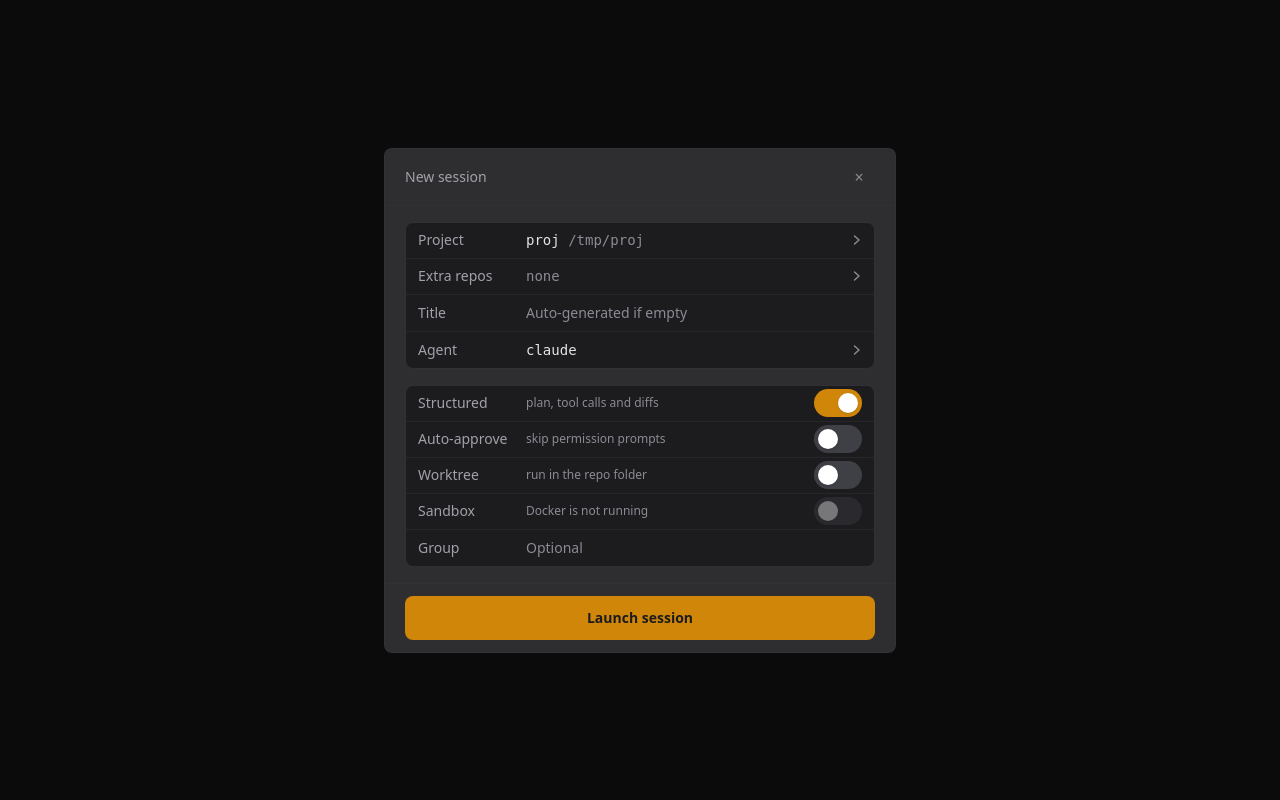
SessionWizard hooks trust › shows the error instead of looping when a trusted retry is refused again
The width and height of the screenshot is (1280, 800).
Click the button "Launch session" at {"x": 640, "y": 618}, box left=405, top=596, right=875, bottom=640
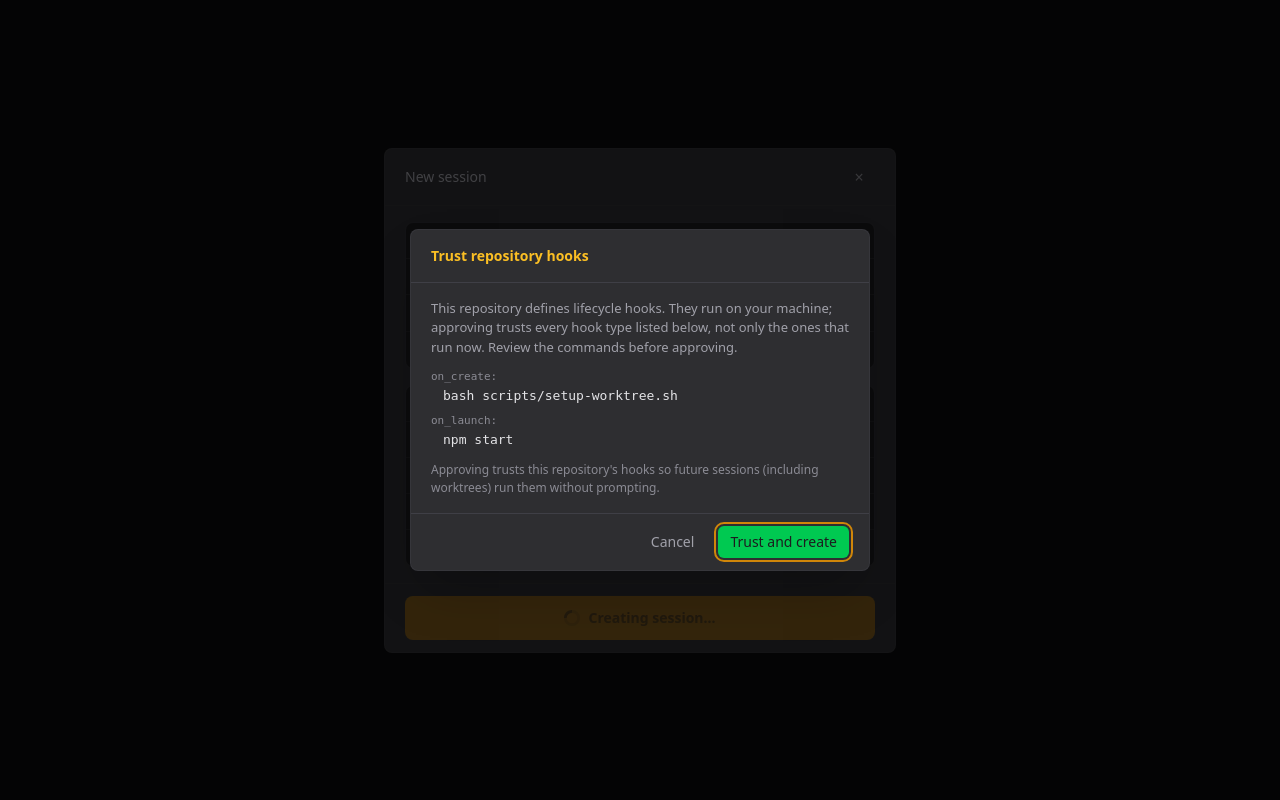
Result: the dialog with test id "hooks-trust-dialog" is shown
Click the button with test id "hooks-trust-proceed" at {"x": 784, "y": 542}, box left=718, top=526, right=849, bottom=558
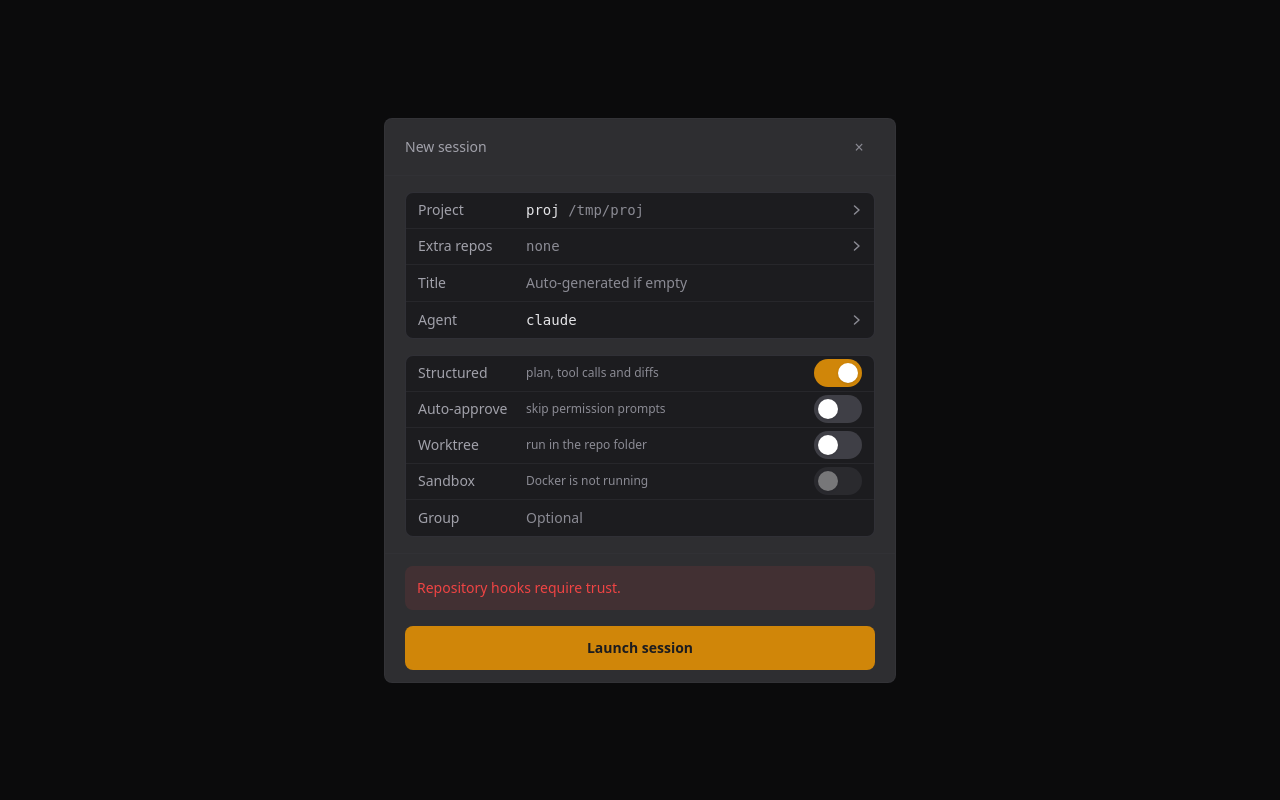
Result: the text "Repository hooks require trust." is shown at left=405, top=566, right=875, bottom=610
